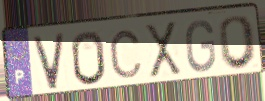C: (107, 28, 145, 80)
G: (184, 18, 218, 75)
O: (218, 13, 260, 72), (69, 29, 108, 87)
V: (31, 31, 67, 92)
X: (143, 19, 184, 81)
